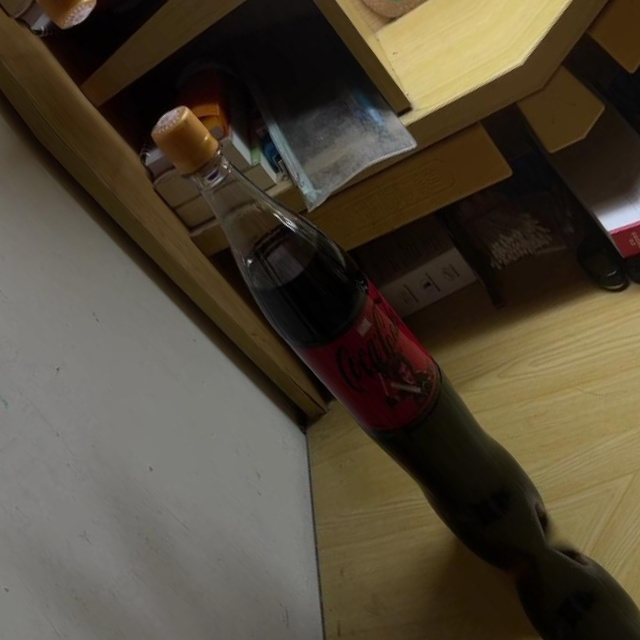Coca-Cola: (125, 83, 574, 591)
